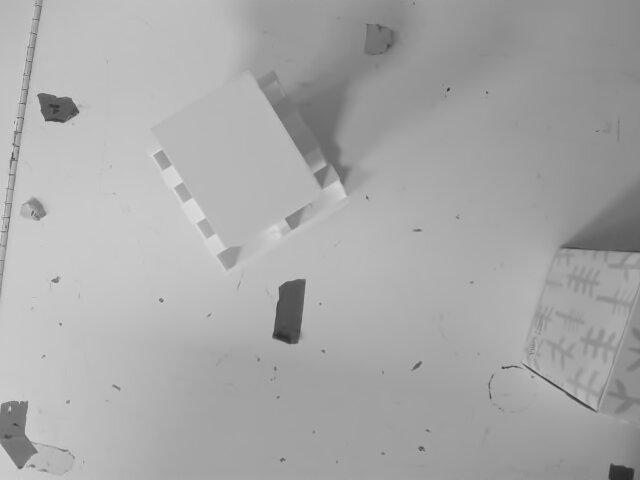white pallet: (136, 54, 369, 274)
